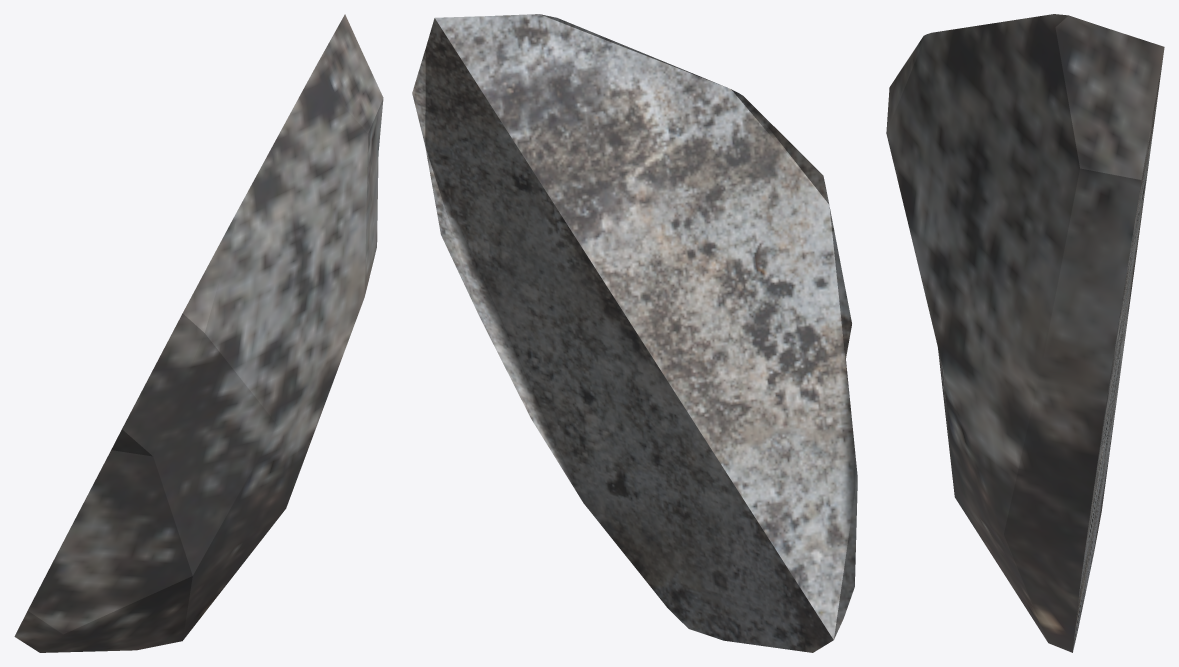
File: Asteroid_Medium_001_02_004.fbx
3 renders of one model, left to right at view 1: azimuth 30°, elevation 25°; view 2: azimuth 150°, elevation 25°; view 3: azimuth 270°, elevation 25°, orthographic. The views are drawn at different scales.
Parts seen in each view (by area): view 1: Asteroid_Medium_001_02_004; view 2: Asteroid_Medium_001_02_004; view 3: Asteroid_Medium_001_02_004.
Part boxes in pixels (box(x1,y1,x2,y2)): Asteroid_Medium_001_02_004: box(14, 14, 383, 652); Asteroid_Medium_001_02_004: box(412, 14, 857, 652); Asteroid_Medium_001_02_004: box(886, 14, 1164, 652).
Bounding box in the file's own units: 10.76 × 14.71 × 4.99.
